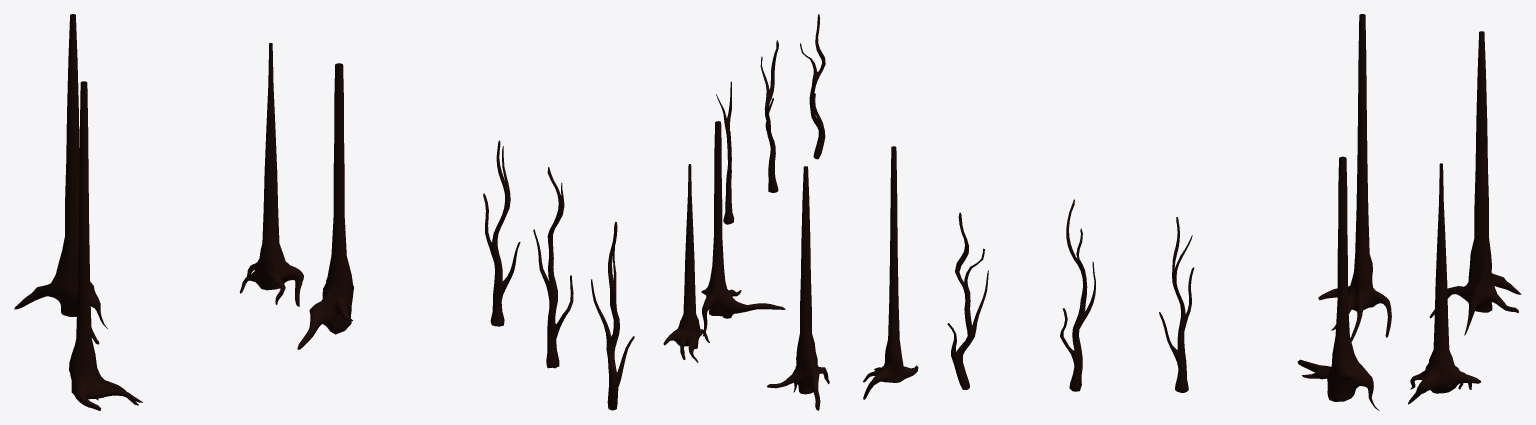
The model's file is TreePaint_low.FBX.
The picture shows the model from 3 angles, left to right: view 1: azimuth 30°, elevation 25°; view 2: azimuth 150°, elevation 25°; view 3: azimuth 270°, elevation 25°; orthographic projection. The views are drawn at different scales.
Visible parts, largest first — view 1: Cylinder005, Branch2_low, Branch3_low, Branch1_low; view 2: Cylinder005, Branch2_low, Branch3_low, Branch1_low; view 3: Cylinder005, Branch2_low, Branch3_low, Branch1_low.
Boxes of the visible parts, x1,y1,x2,y2 form: Cylinder005: [14, 14, 353, 410]; Branch2_low: [533, 167, 573, 368]; Branch3_low: [591, 222, 634, 410]; Branch1_low: [483, 140, 520, 326]; Cylinder005: [663, 121, 918, 410]; Branch2_low: [760, 40, 778, 192]; Branch3_low: [800, 14, 825, 159]; Branch1_low: [716, 81, 734, 224]; Cylinder005: [1297, 14, 1521, 410]; Branch2_low: [1060, 199, 1095, 391]; Branch3_low: [947, 212, 988, 389]; Branch1_low: [1159, 217, 1194, 392].
Size of the model in its own units: 8652 by 8132 by 13324.
